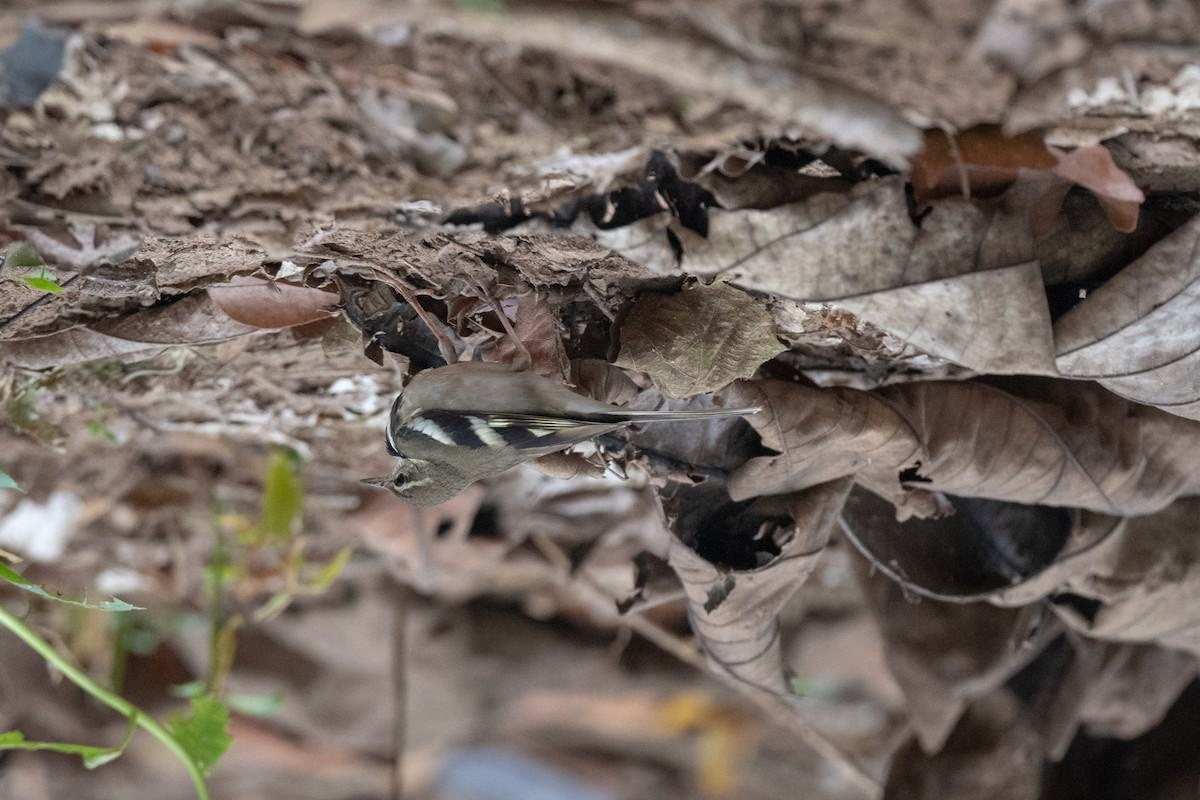wagtail: (344, 332, 739, 522)
